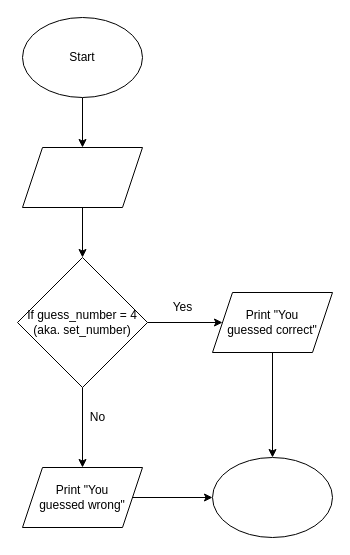
Some shapes in this 350 by 555 pixel diagram are drawn without their labels. The box of each missing label's shape, as (x1, y1, x2, y2) in pixels:
Get guess_number: (22, 146, 142, 208)
Stop: (212, 456, 332, 538)
